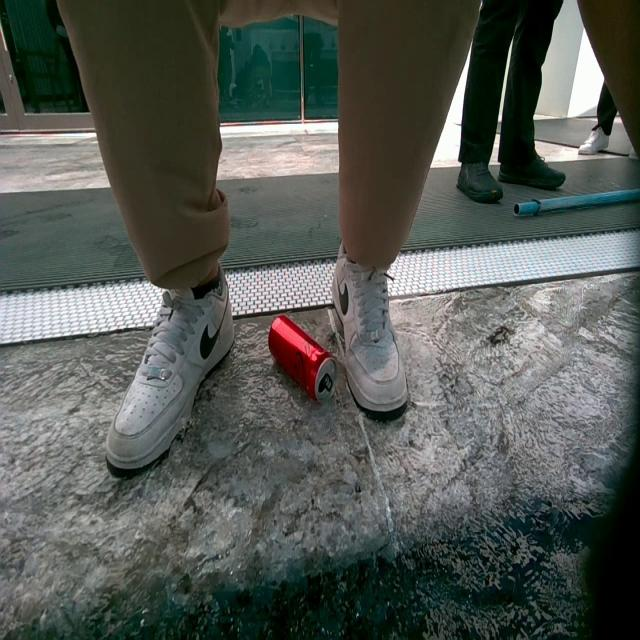Cans: (268, 315, 348, 410)
